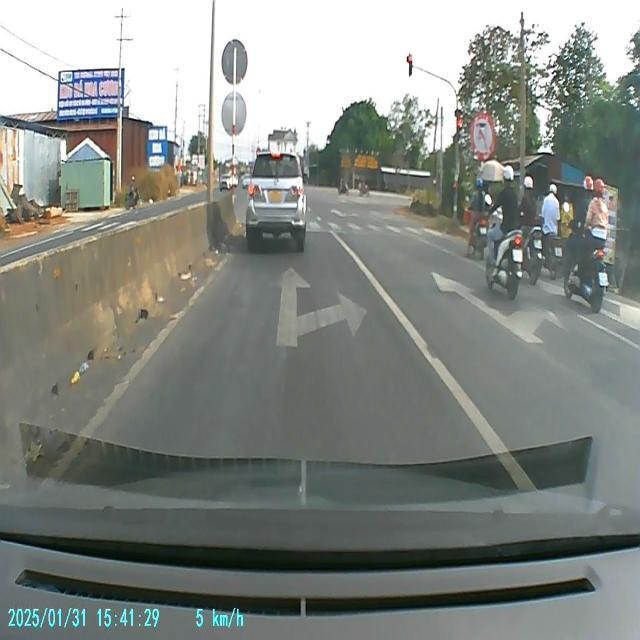124a-cam-quay-dau-xe: (471, 112, 497, 160)
